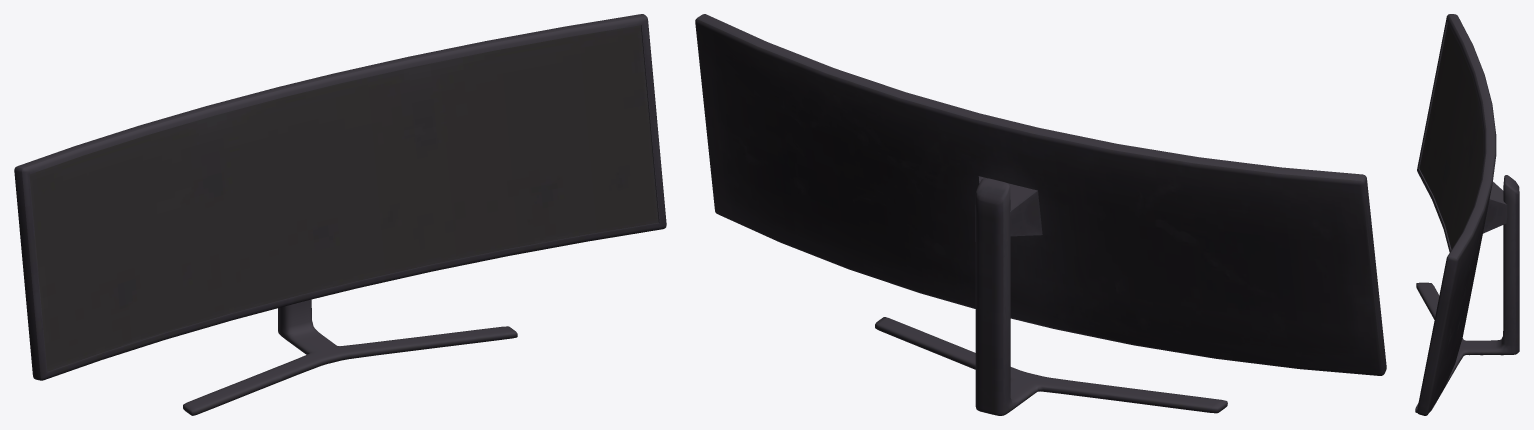
Rendered from monitor.glb.
3 renders of one model, left to right at view 1: azimuth 30°, elevation 25°; view 2: azimuth 150°, elevation 25°; view 3: azimuth 270°, elevation 25°, orthographic. The views are drawn at different scales.
Visible parts, largest first — view 1: normalized; view 2: normalized; view 3: normalized.
Part boxes in pixels (box(x1,y1,x2,y2)): normalized: box(14, 14, 666, 415); normalized: box(695, 14, 1386, 415); normalized: box(1415, 14, 1519, 415).
Size of the model in its own units: 0.92 by 0.3768 by 0.1657.
1 material, 1 textured.
